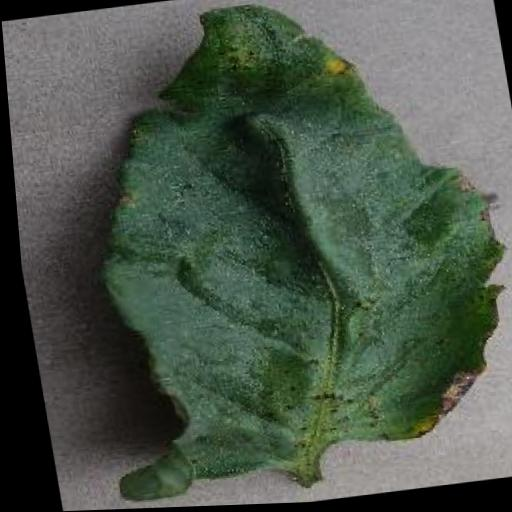Bacterial Spot: (21, 0, 512, 511)
